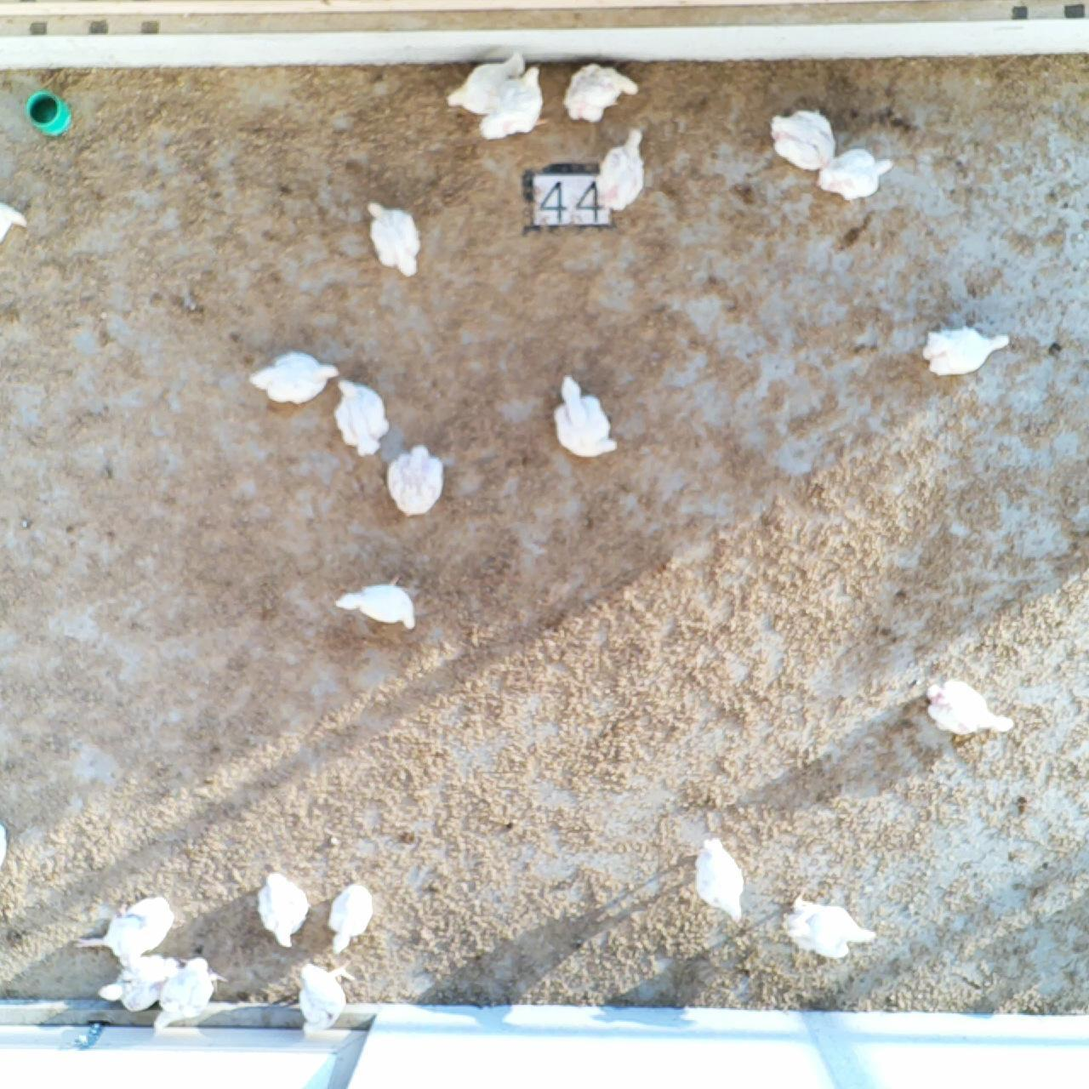chicken: (84, 892, 188, 968), (678, 842, 768, 927), (778, 898, 879, 969), (551, 372, 624, 468), (242, 871, 322, 958), (252, 338, 336, 418), (918, 322, 1015, 391), (366, 190, 430, 291), (929, 674, 1017, 747), (595, 130, 669, 215), (98, 942, 192, 1005), (149, 959, 223, 1039), (320, 874, 386, 961), (328, 375, 392, 463), (804, 151, 901, 208), (332, 576, 430, 632), (563, 61, 641, 130), (288, 962, 359, 1036), (383, 443, 447, 524), (480, 69, 547, 145), (451, 56, 524, 120), (773, 110, 838, 173), (0, 196, 43, 258), (0, 815, 29, 878)
